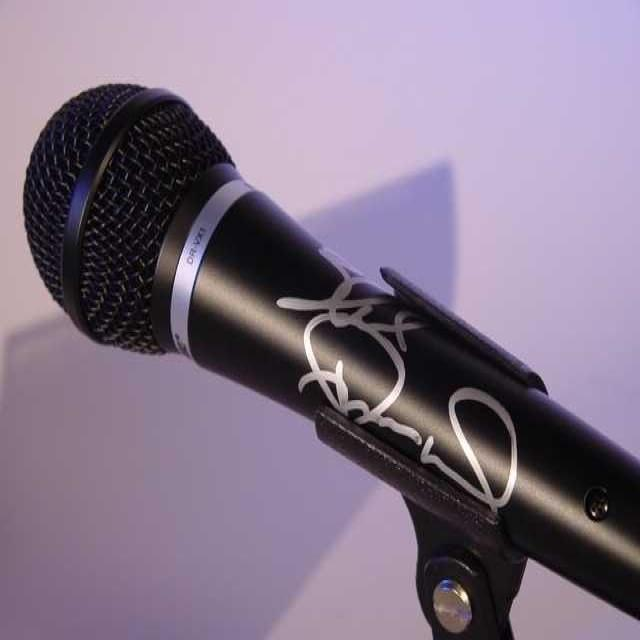microphone: (13, 85, 633, 604)
